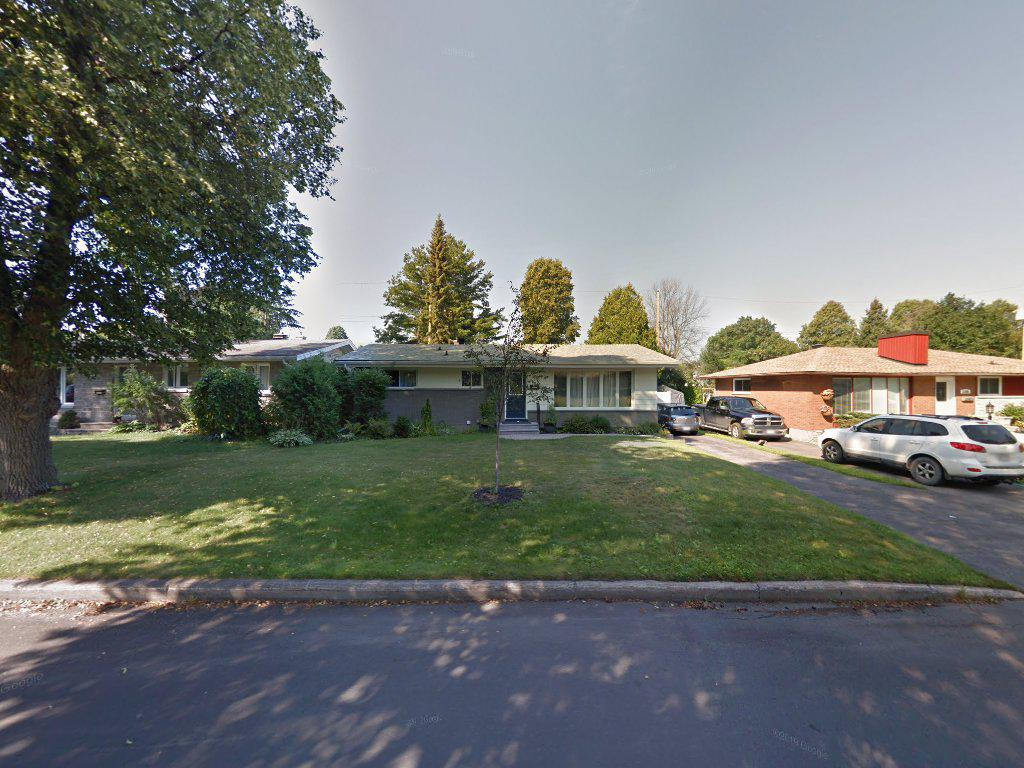trunk: (2, 260, 68, 506)
